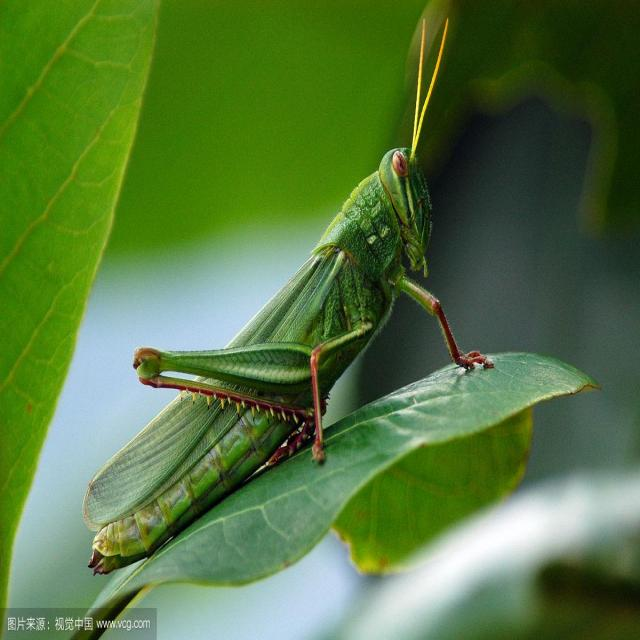ZhaMeng: (94, 16, 473, 581)
